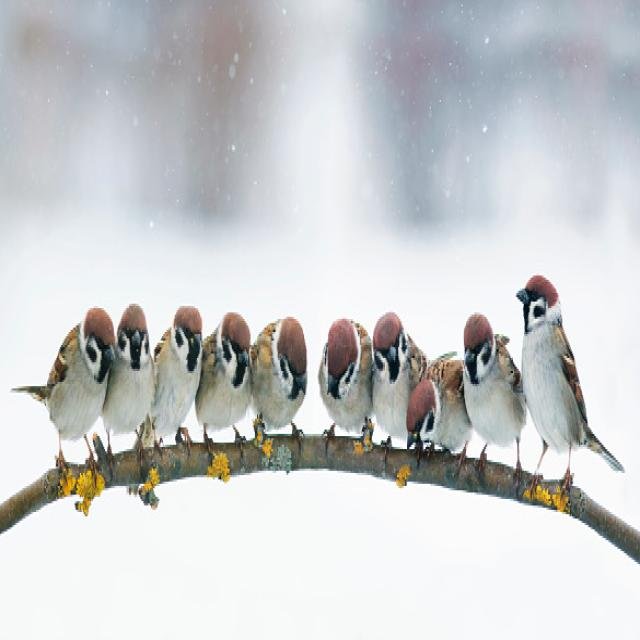bird: (518, 274, 622, 474), (17, 310, 116, 438), (142, 301, 206, 435), (464, 314, 526, 448), (372, 313, 428, 440), (248, 316, 310, 428), (100, 304, 154, 431), (195, 314, 255, 428), (405, 339, 464, 452), (317, 321, 369, 429)
